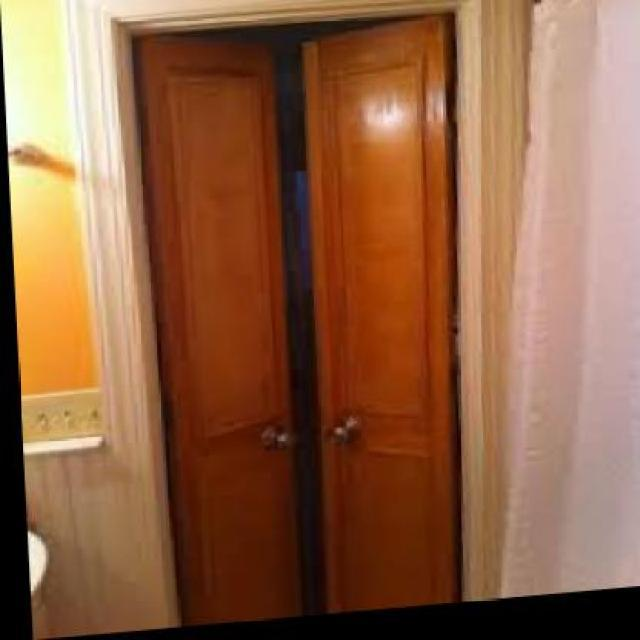door: (130, 20, 307, 640), (303, 6, 469, 640)
